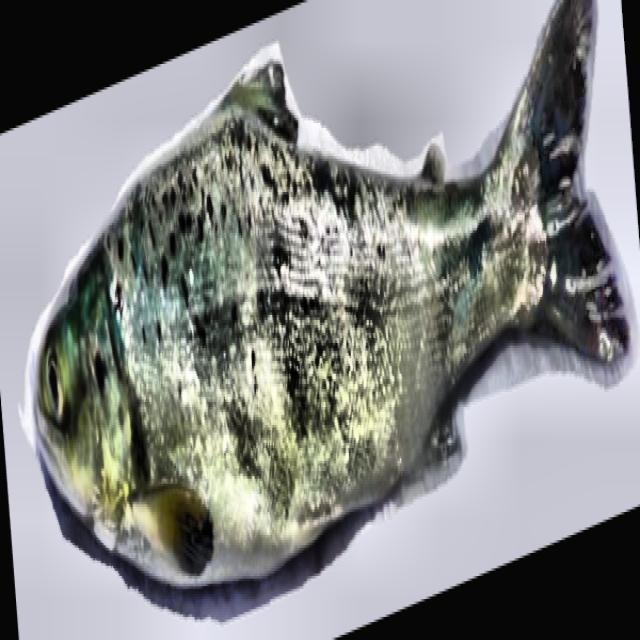mild_red: (123, 115, 545, 573)
